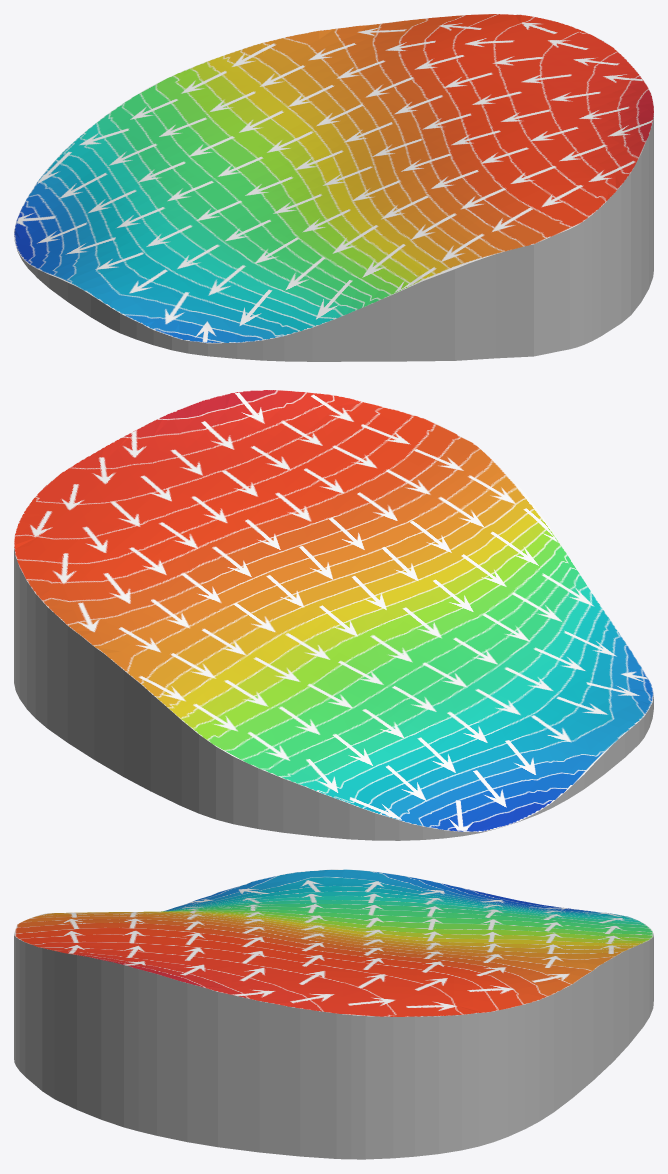
3 views of the same model, one above another, from view 1: azimuth 30°, elevation 25°; view 2: azimuth 150°, elevation 25°; view 3: azimuth 270°, elevation 25° (orthographic). The views are drawn at different scales.
Size of the model in its own units: 5.3 by 1.5 by 5.36.
2 materials, 1 textured.
